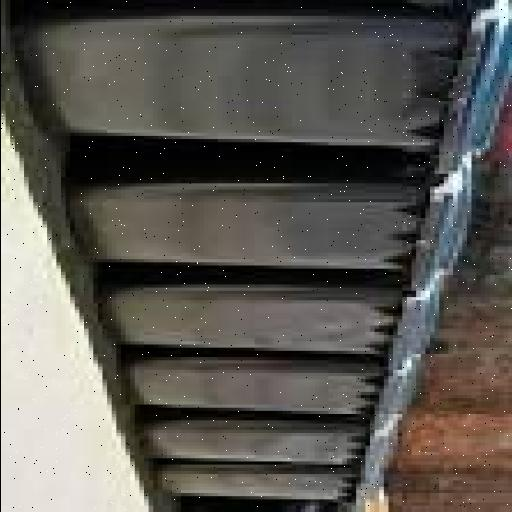poubelle_vide: (4, 1, 512, 164), (78, 172, 506, 298), (121, 362, 447, 434)
